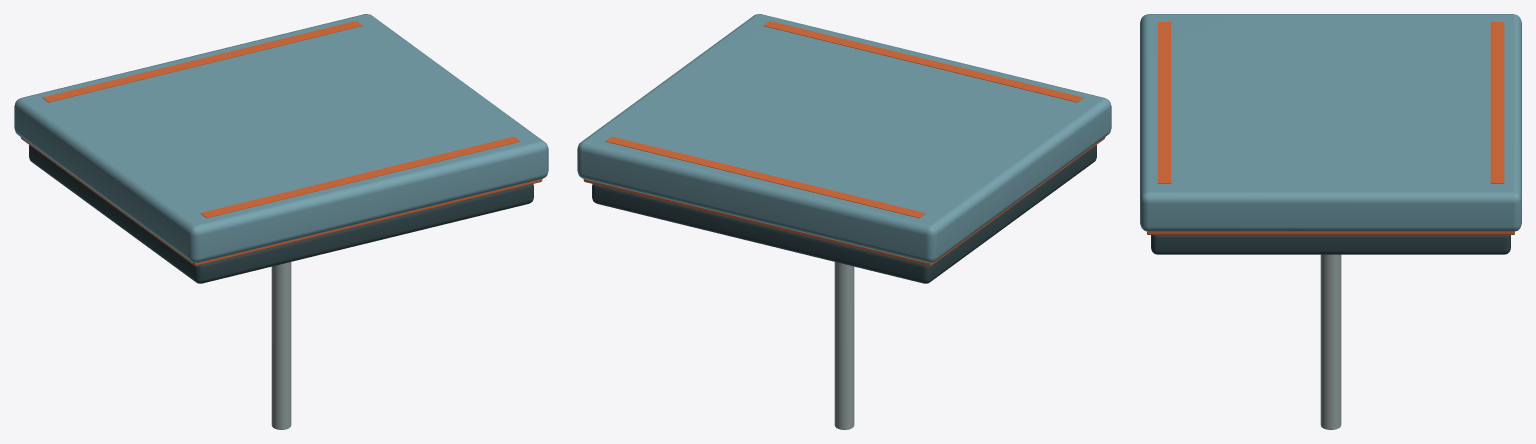
File: water-rush-lift.glb
The picture shows the model from 3 angles, left to right: view 1: azimuth 30°, elevation 25°; view 2: azimuth 150°, elevation 25°; view 3: azimuth 270°, elevation 25°; orthographic projection. The views are drawn at different scales.
Visible parts, largest first — view 1: LiftVisual; view 2: LiftVisual; view 3: LiftVisual.
Boxes of the visible parts, bbox=[...] form: LiftVisual: bbox=[14, 14, 548, 429]; LiftVisual: bbox=[577, 14, 1111, 429]; LiftVisual: bbox=[1140, 14, 1521, 429].
Bounding box in the file's own units: 3.2 × 2.61 × 2.8.
